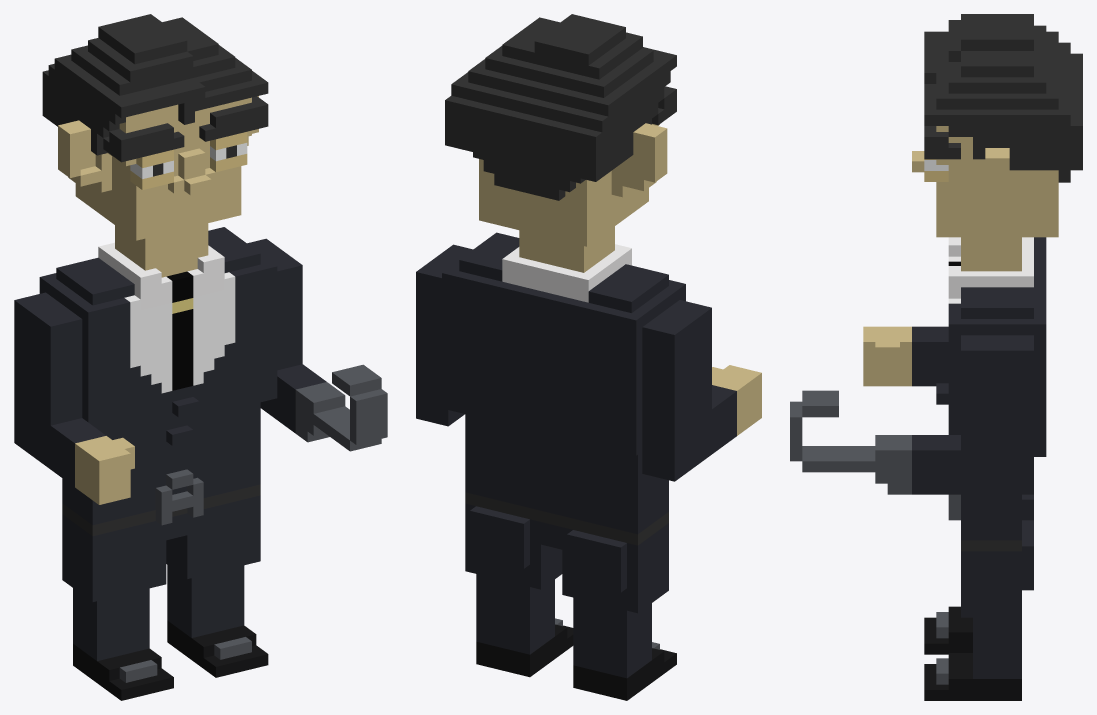
Rendered from JackMa.gltf.
The picture shows the model from 3 angles, left to right: view 1: azimuth 30°, elevation 25°; view 2: azimuth 150°, elevation 25°; view 3: azimuth 270°, elevation 25°; orthographic projection. The views are drawn at different scales.
Bounding box in the file's own units: 24 × 57 × 24.
1 material, 1 textured.
